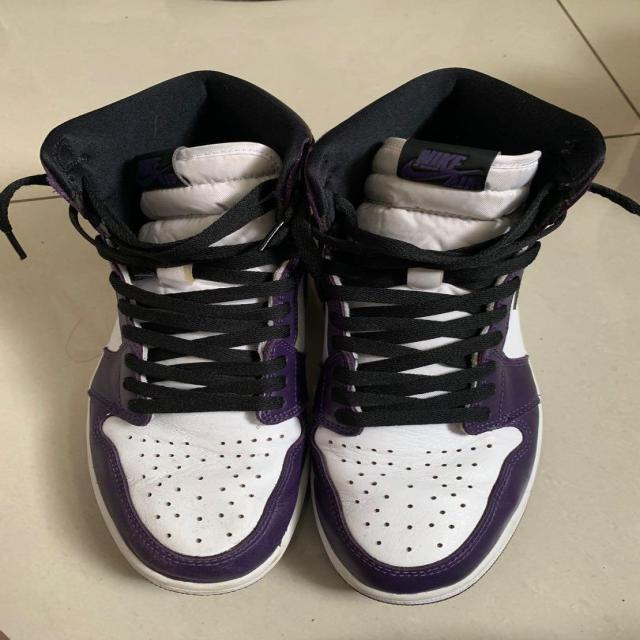nike original jordan 1: (302, 72, 608, 606), (38, 75, 314, 596)
